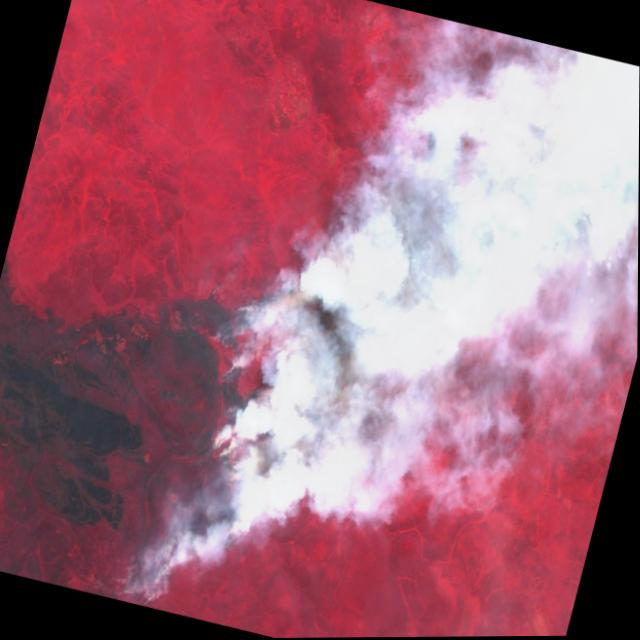fire: (107, 0, 640, 639)
